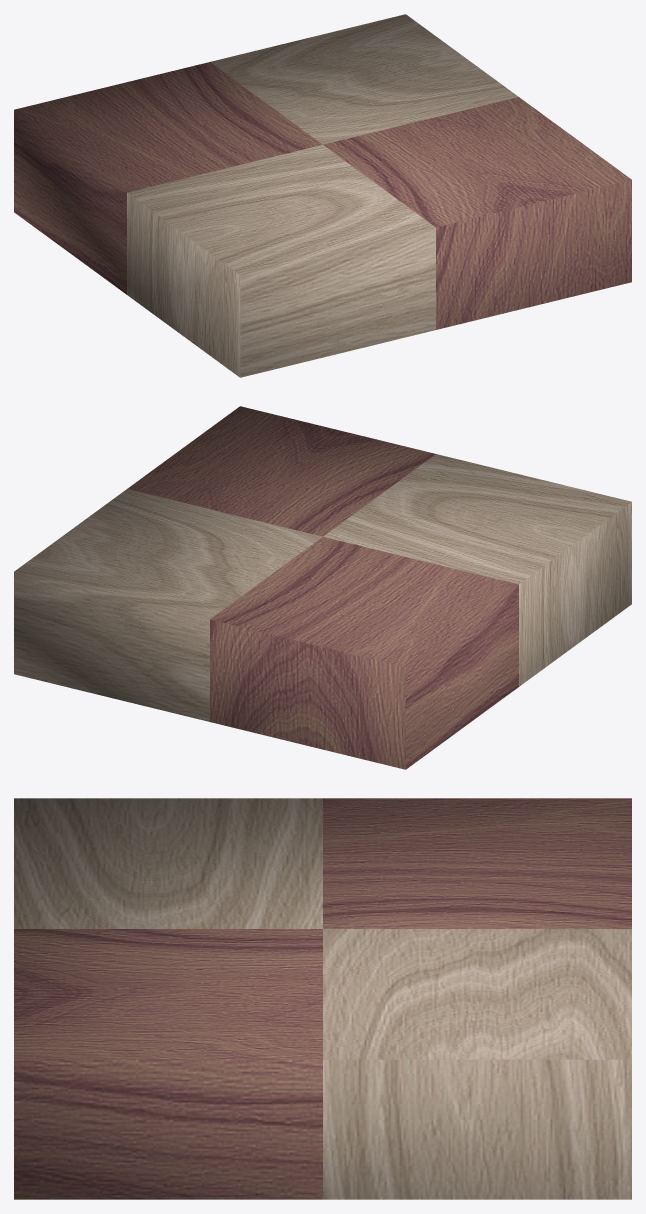
File: gameBoard.fbx
3 renders of one model, top to bottom at view 1: azimuth 30°, elevation 25°; view 2: azimuth 150°, elevation 25°; view 3: azimuth 270°, elevation 25°, orthographic. The views are drawn at different scales.
Parts seen in each view (by area): view 1: Board; view 2: Board; view 3: Board.
Part boxes in pixels (x1,y1,x2,y2): Board: (14, 14, 631, 377); Board: (14, 406, 631, 769); Board: (14, 798, 631, 1199).
Bounding box in the file's own units: 4 × 1 × 4.
